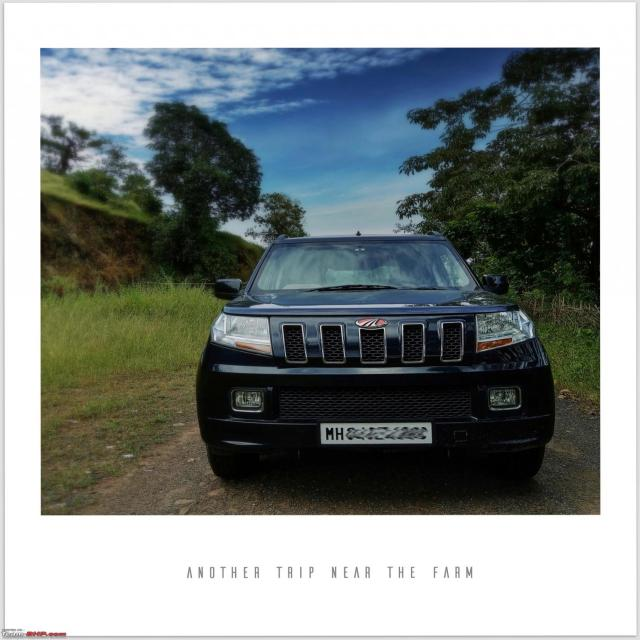light_vehicle: (201, 233, 566, 496)
